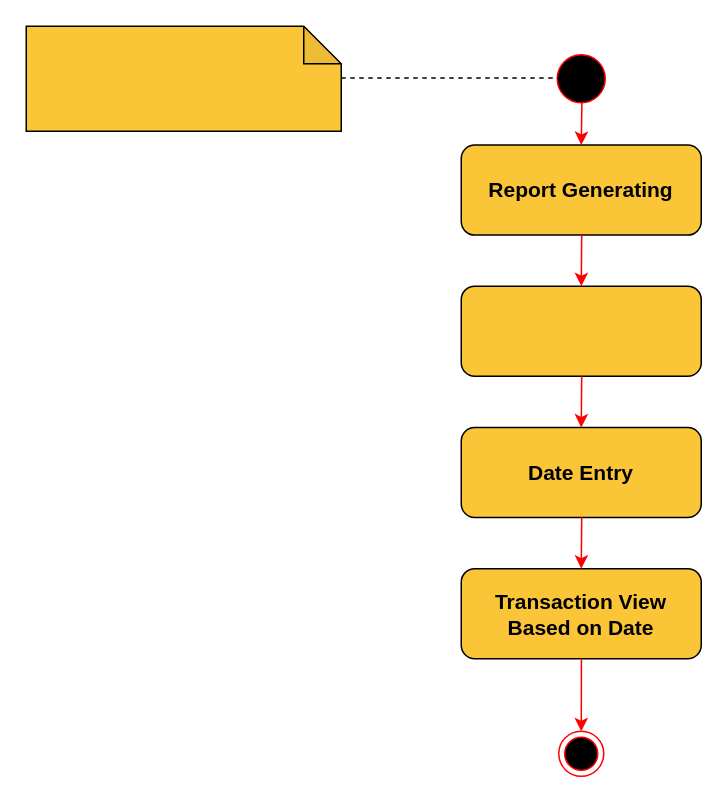
Image size: 728x803. Some labels were removed from this diagram. Here are the shapes that lost their labels. From the top down, the box of each, then its label:
(25, 25, 341, 131): After Admin Logged in
(460, 285, 701, 376): Transaction Data View
